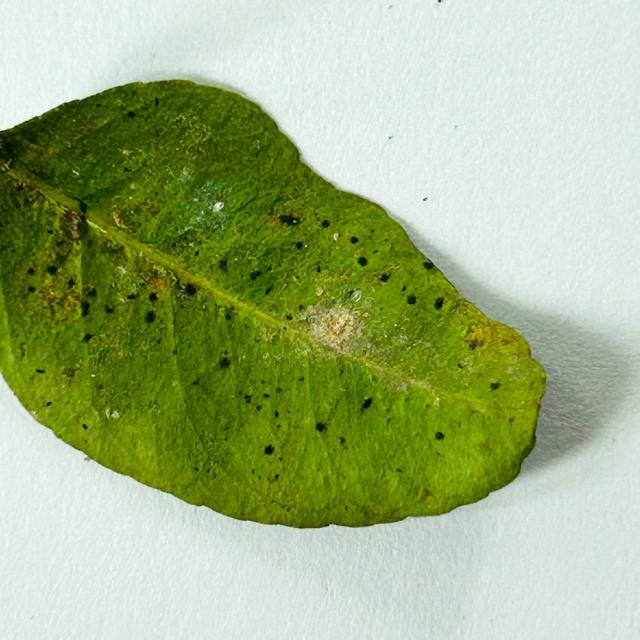Bacterial_Blight: (240, 221, 382, 320), (224, 368, 352, 469), (81, 289, 154, 366), (108, 134, 173, 182), (232, 381, 285, 426), (228, 384, 282, 422), (266, 205, 302, 228), (173, 230, 201, 250), (240, 389, 270, 407), (61, 365, 80, 380), (80, 300, 91, 316), (218, 356, 231, 369), (184, 283, 197, 296), (249, 269, 262, 281), (144, 310, 156, 323), (263, 443, 275, 455), (86, 287, 97, 299), (82, 333, 95, 343), (148, 292, 159, 303), (357, 256, 368, 267), (218, 259, 228, 271), (46, 265, 58, 275), (361, 397, 371, 408), (104, 304, 115, 314), (66, 277, 76, 288), (490, 381, 501, 391), (422, 261, 434, 270), (468, 340, 477, 351), (320, 219, 330, 228), (27, 267, 36, 276), (27, 285, 36, 294), (224, 311, 232, 321), (127, 292, 137, 300), (264, 287, 272, 296), (295, 241, 303, 250), (350, 236, 359, 244), (244, 394, 252, 402), (285, 313, 293, 321), (127, 111, 136, 118), (35, 368, 45, 374), (123, 166, 131, 173), (192, 379, 199, 386), (457, 362, 464, 369), (316, 265, 322, 273), (298, 304, 304, 311), (274, 473, 280, 480), (46, 401, 53, 407), (508, 417, 515, 423), (94, 103, 102, 108), (298, 376, 304, 382), (425, 404, 431, 410), (82, 424, 88, 430), (263, 393, 270, 398), (194, 467, 200, 472)
Lemon: (0, 79, 548, 531)
